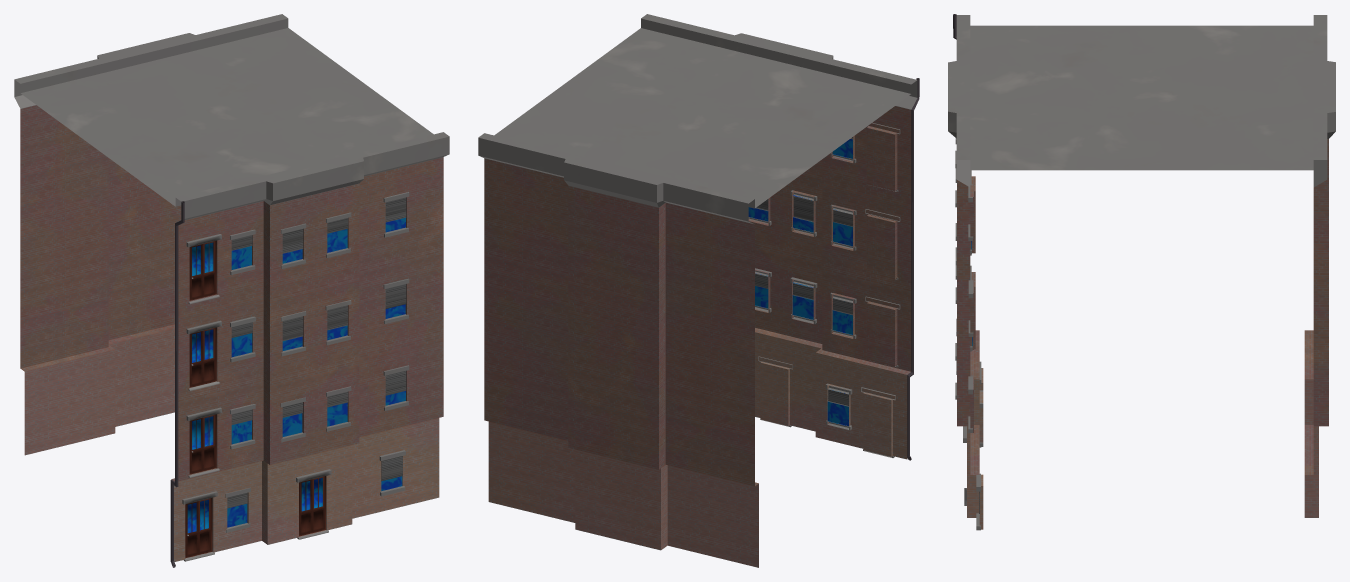
Rendered from Middle_building.gltf.
The picture shows the model from 3 angles, left to right: view 1: azimuth 30°, elevation 25°; view 2: azimuth 150°, elevation 25°; view 3: azimuth 270°, elevation 25°; orthographic projection. The views are drawn at different scales.
Visible parts, largest first — view 1: middle_Building.001; view 2: middle_Building.001; view 3: middle_Building.001.
Boxes of the visible parts, bbox=[...] form: middle_Building.001: bbox=[14, 14, 449, 567]; middle_Building.001: bbox=[478, 14, 919, 567]; middle_Building.001: bbox=[948, 14, 1335, 530].
Size of the model in its own units: 10.03 by 13.22 by 11.29.
Materials: 1 (1 with a texture image).
